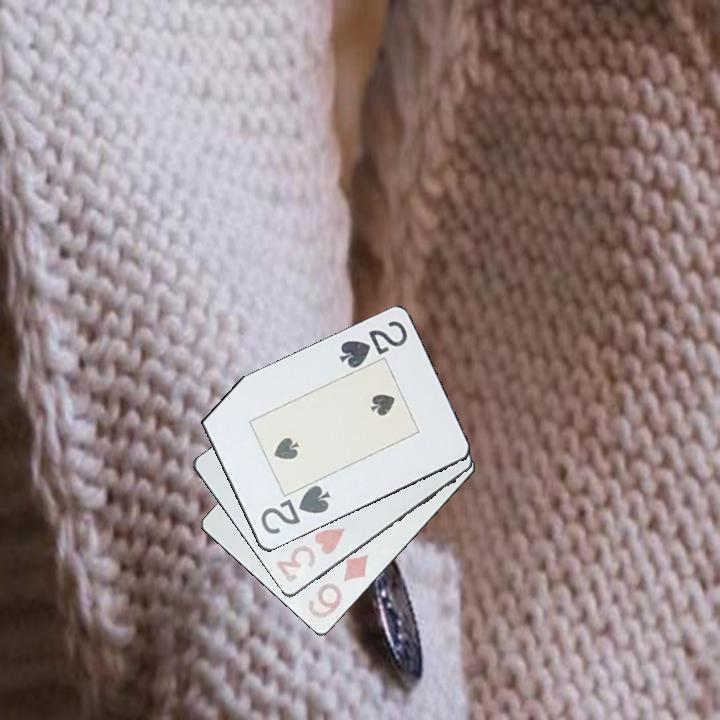2s: (257, 482, 333, 538), (335, 317, 410, 371)
3h: (273, 525, 348, 586)
6d: (304, 551, 371, 622)
